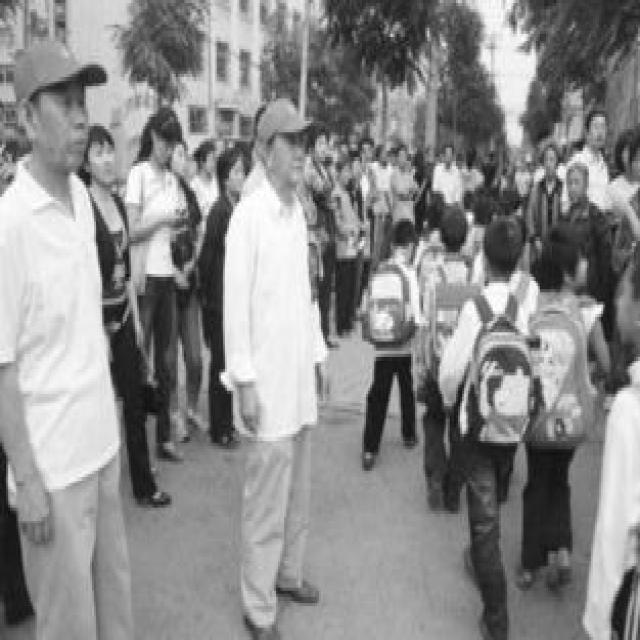10-: (2, 40, 634, 631)
